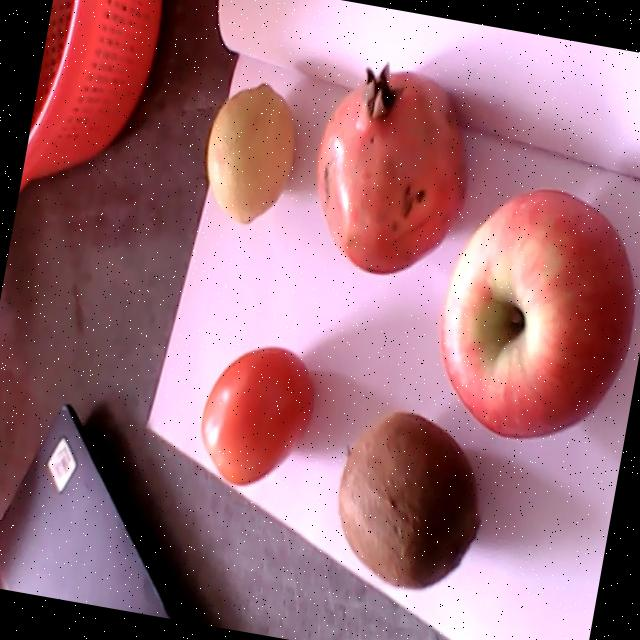apple: (438, 187, 635, 438)
kiwi: (337, 411, 480, 589)
lemon: (206, 84, 296, 223)
pomegranate: (314, 61, 468, 273)
tomato: (199, 348, 313, 485)
